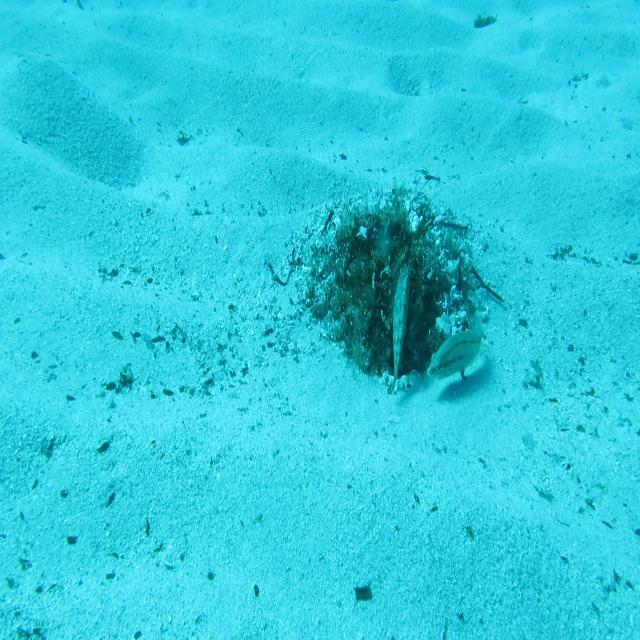ROLL: (387, 265, 414, 395)
core_nest: (362, 226, 410, 277)
female: (426, 295, 486, 383)
nest: (286, 175, 500, 413)
vegetation: (472, 10, 498, 30), (354, 584, 373, 602)
